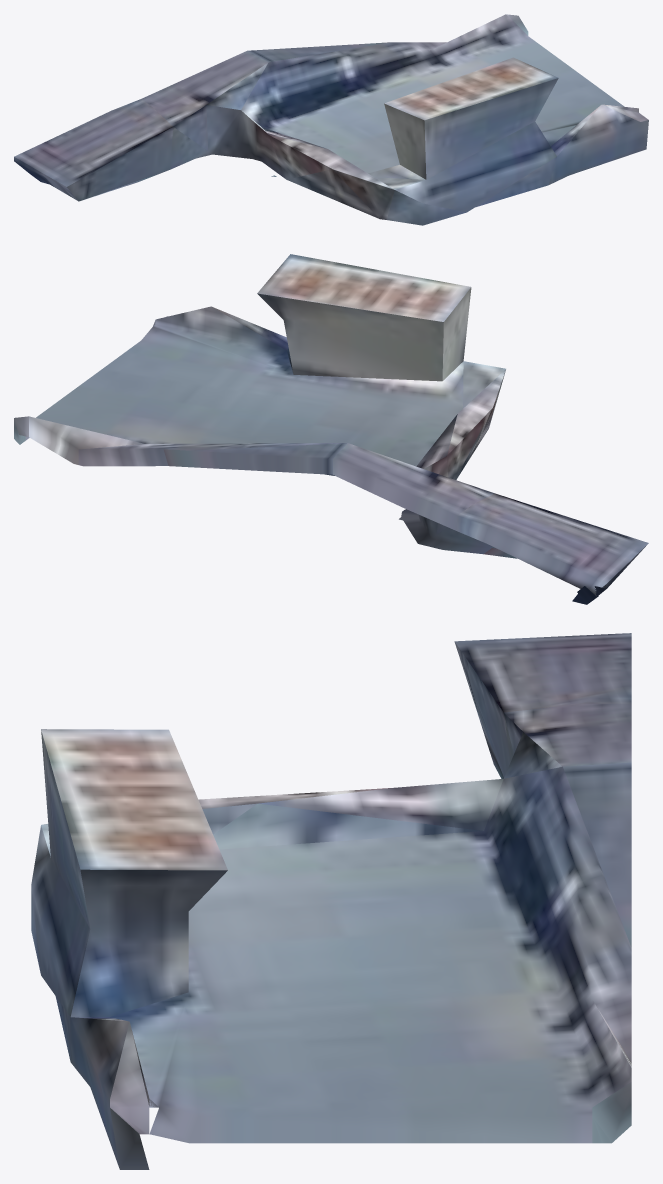
3 views of the same model, one above another, from view 1: azimuth 30°, elevation 25°; view 2: azimuth 150°, elevation 25°; view 3: azimuth 270°, elevation 25° (orthographic). The views are drawn at different scales.
Visible parts, largest first — view 1: 30436272704361515626_0; view 2: 30436272704361515626_0; view 3: 30436272704361515626_0.
Part boxes in pixels (x1,y1,x2,y2): 30436272704361515626_0: [14, 14, 648, 225]; 30436272704361515626_0: [14, 254, 648, 604]; 30436272704361515626_0: [31, 633, 631, 1169].
Bounding box in the file's own units: 18.26 × 3.55 × 9.41.
1 material, 1 textured.
